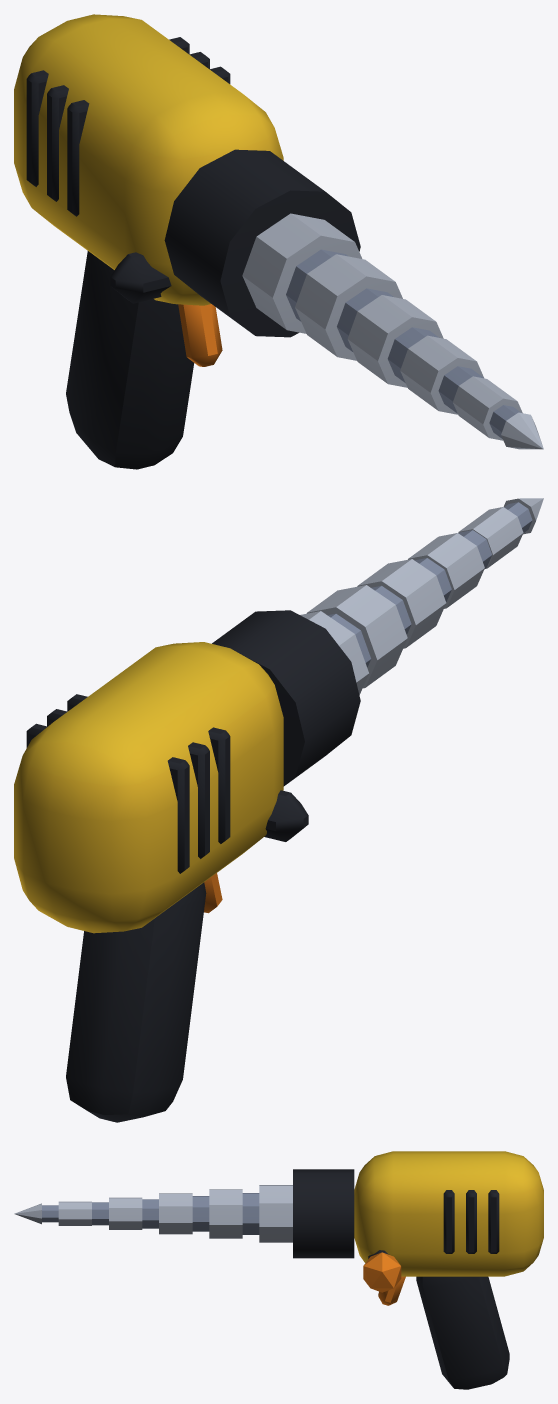
File: w_b_drill.glb
The picture shows the model from 3 angles, top to bottom: view 1: azimuth 30°, elevation 25°; view 2: azimuth 150°, elevation 25°; view 3: azimuth 270°, elevation 25°; orthographic projection. The views are drawn at different scales.
Visible parts, largest first — view 1: body; view 2: body; view 3: body.
Boxes of the visible parts, x1,y1,x2,y2 form: body: [14, 14, 543, 469]; body: [14, 498, 543, 1122]; body: [14, 1151, 543, 1389].
Bounding box in the file's own units: 0.2392 × 0.4063 × 0.855.
